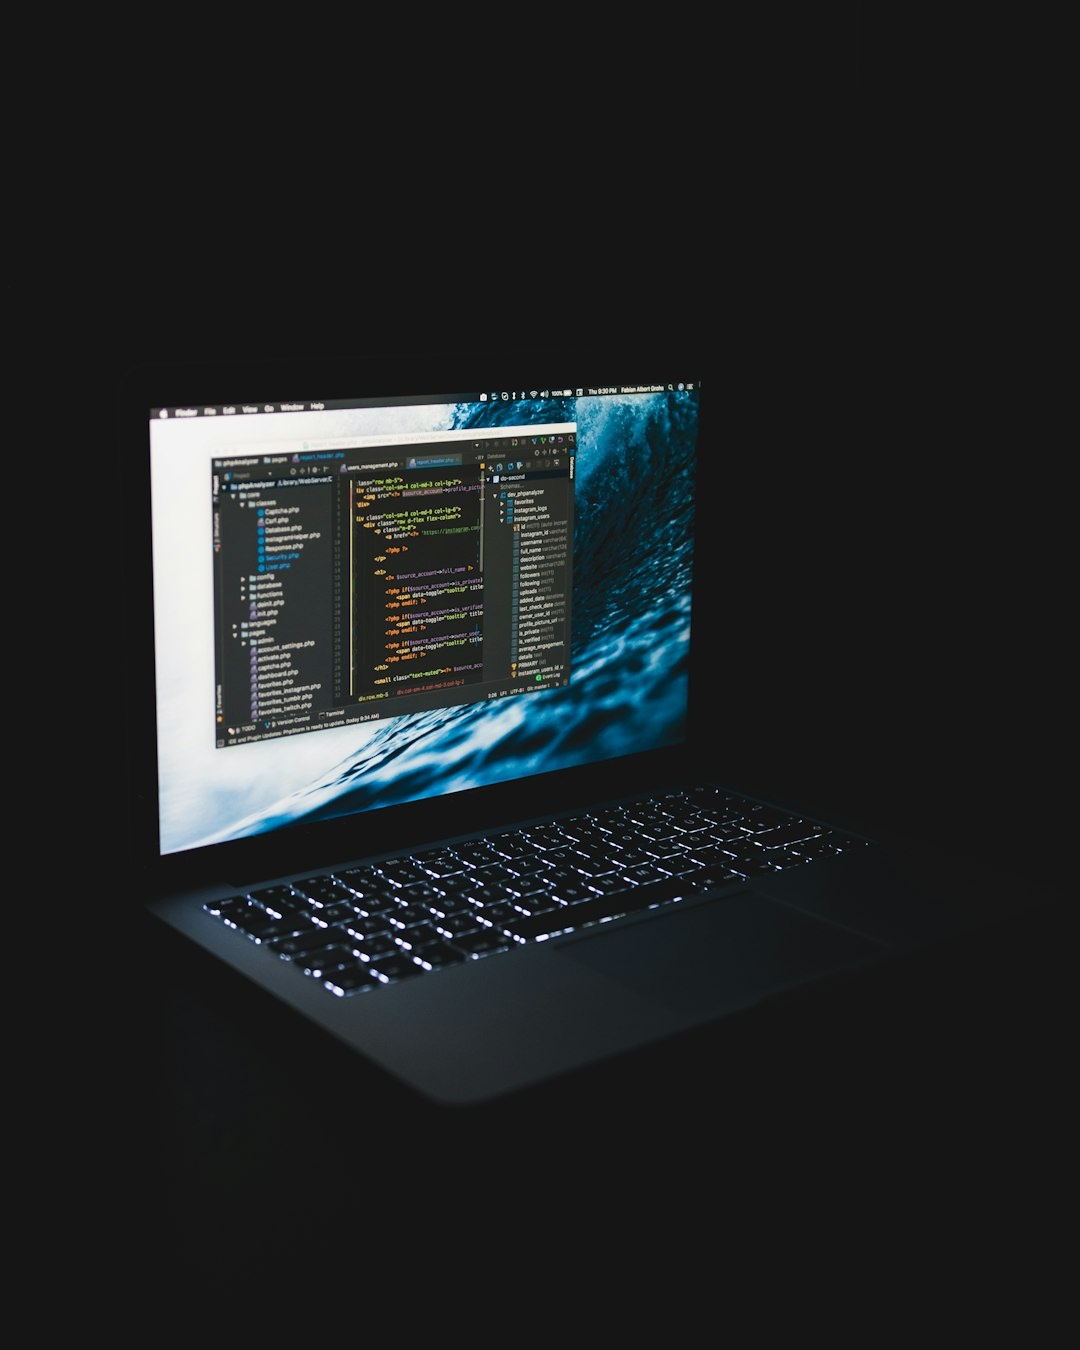laptop: (84, 352, 1023, 1119)
